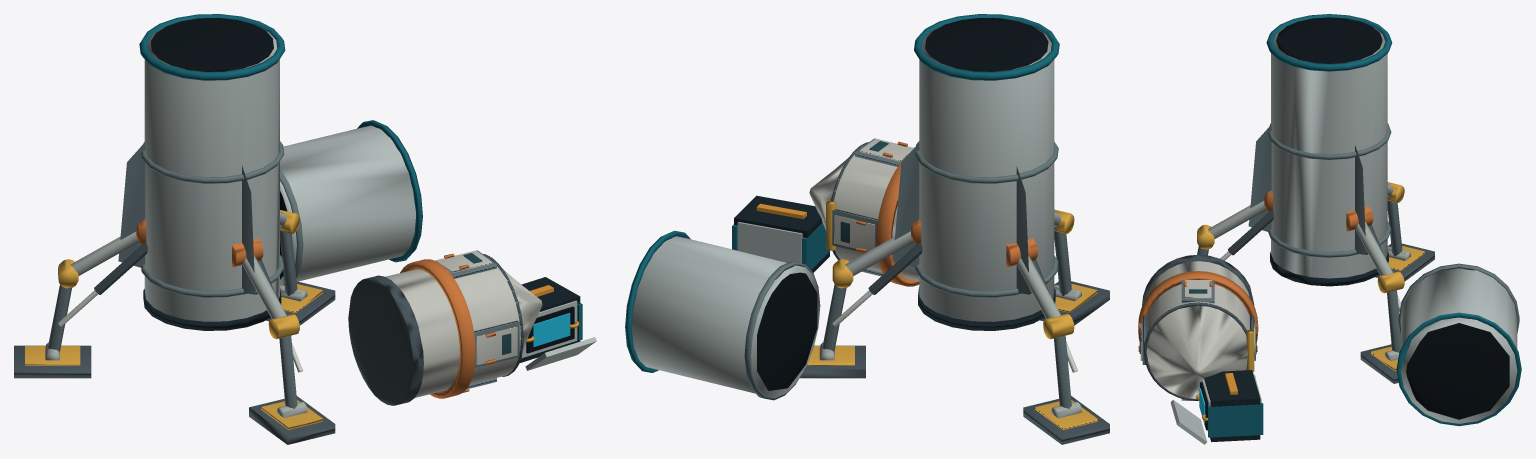
File: sh02_salvage_layout_stage1_lod1.glb
The picture shows the model from 3 angles, left to right: view 1: azimuth 30°, elevation 25°; view 2: azimuth 150°, elevation 25°; view 3: azimuth 270°, elevation 25°; orthographic projection. The views are drawn at different scales.
Parts seen in each view (by area): view 1: SH02_SALVAGE_GEOMETRY_00_LANDING, SH02_SALVAGE_GEOMETRY_02_CAPSULE, SH02_SALVAGE_GEOMETRY_01_TANK, SH02_SALVAGE_GEOMETRY_03_ISAO_MODULE; view 2: SH02_SALVAGE_GEOMETRY_00_LANDING, SH02_SALVAGE_GEOMETRY_01_TANK, SH02_SALVAGE_GEOMETRY_02_CAPSULE, SH02_SALVAGE_GEOMETRY_03_ISAO_MODULE; view 3: SH02_SALVAGE_GEOMETRY_00_LANDING, SH02_SALVAGE_GEOMETRY_01_TANK, SH02_SALVAGE_GEOMETRY_02_CAPSULE, SH02_SALVAGE_GEOMETRY_03_ISAO_MODULE.
Boxes of the visible parts, x1,y1,x2,y2 form: SH02_SALVAGE_GEOMETRY_00_LANDING: (14,14,335,444); SH02_SALVAGE_GEOMETRY_02_CAPSULE: (348,250,542,405); SH02_SALVAGE_GEOMETRY_01_TANK: (280,120,422,284); SH02_SALVAGE_GEOMETRY_03_ISAO_MODULE: (519,277,596,370); SH02_SALVAGE_GEOMETRY_00_LANDING: (800,14,1109,444); SH02_SALVAGE_GEOMETRY_01_TANK: (625,231,820,400); SH02_SALVAGE_GEOMETRY_02_CAPSULE: (809,138,919,286); SH02_SALVAGE_GEOMETRY_03_ISAO_MODULE: (732,195,830,272); SH02_SALVAGE_GEOMETRY_00_LANDING: (1197,14,1434,383); SH02_SALVAGE_GEOMETRY_01_TANK: (1396,263,1521,426); SH02_SALVAGE_GEOMETRY_02_CAPSULE: (1138,254,1258,400); SH02_SALVAGE_GEOMETRY_03_ISAO_MODULE: (1170,370,1263,444).
Bounding box in the file's own units: 15.66 × 10.7 × 13.16.
